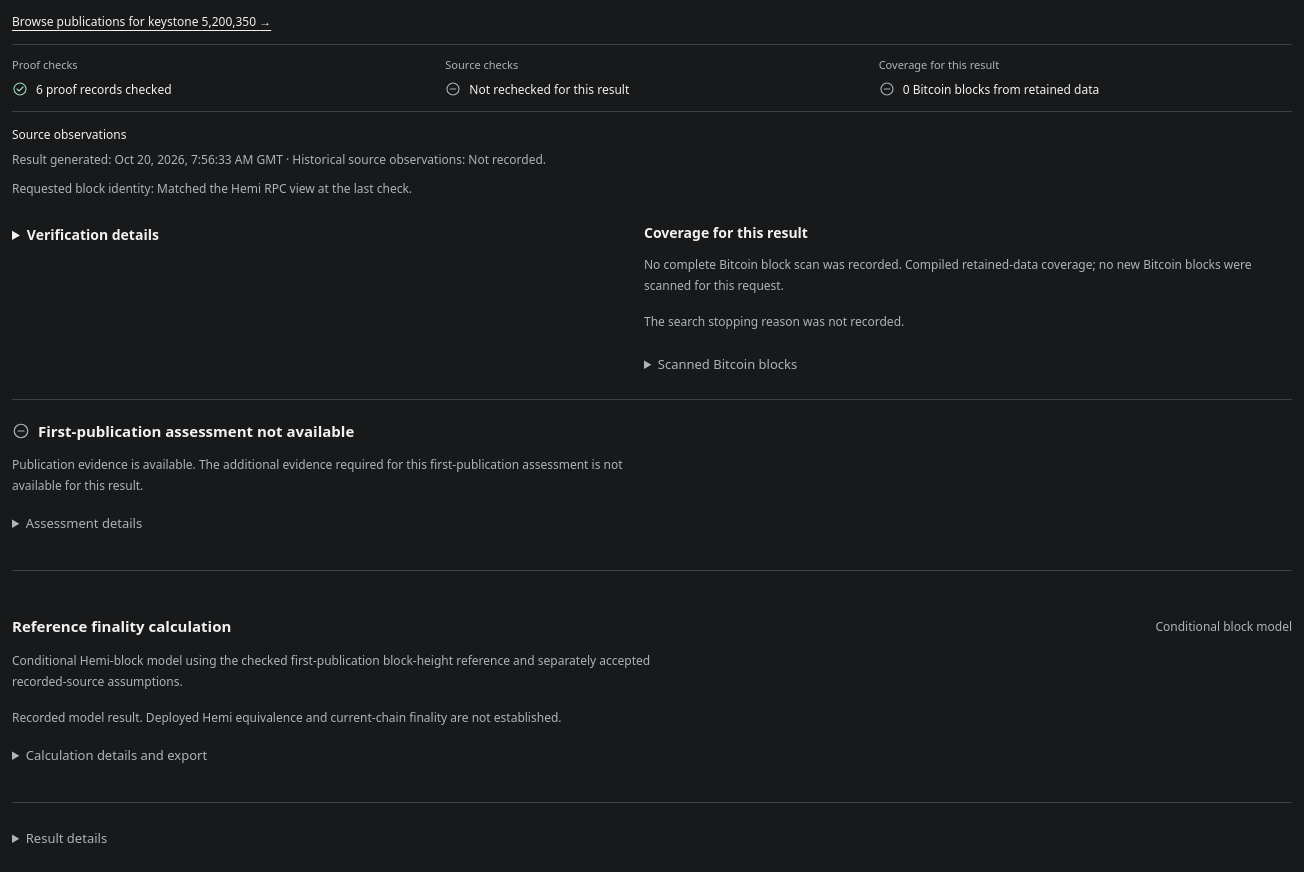
it: Publication outcome, observation context and additional assessments › shows historical model depth with its tip/time while the ordinary source depth remains unestablished
The width and height of the screenshot is (1304, 872).
(page scrolled)
Click the heading "Calculation details and export": (116, 755) [26,746,207,764]
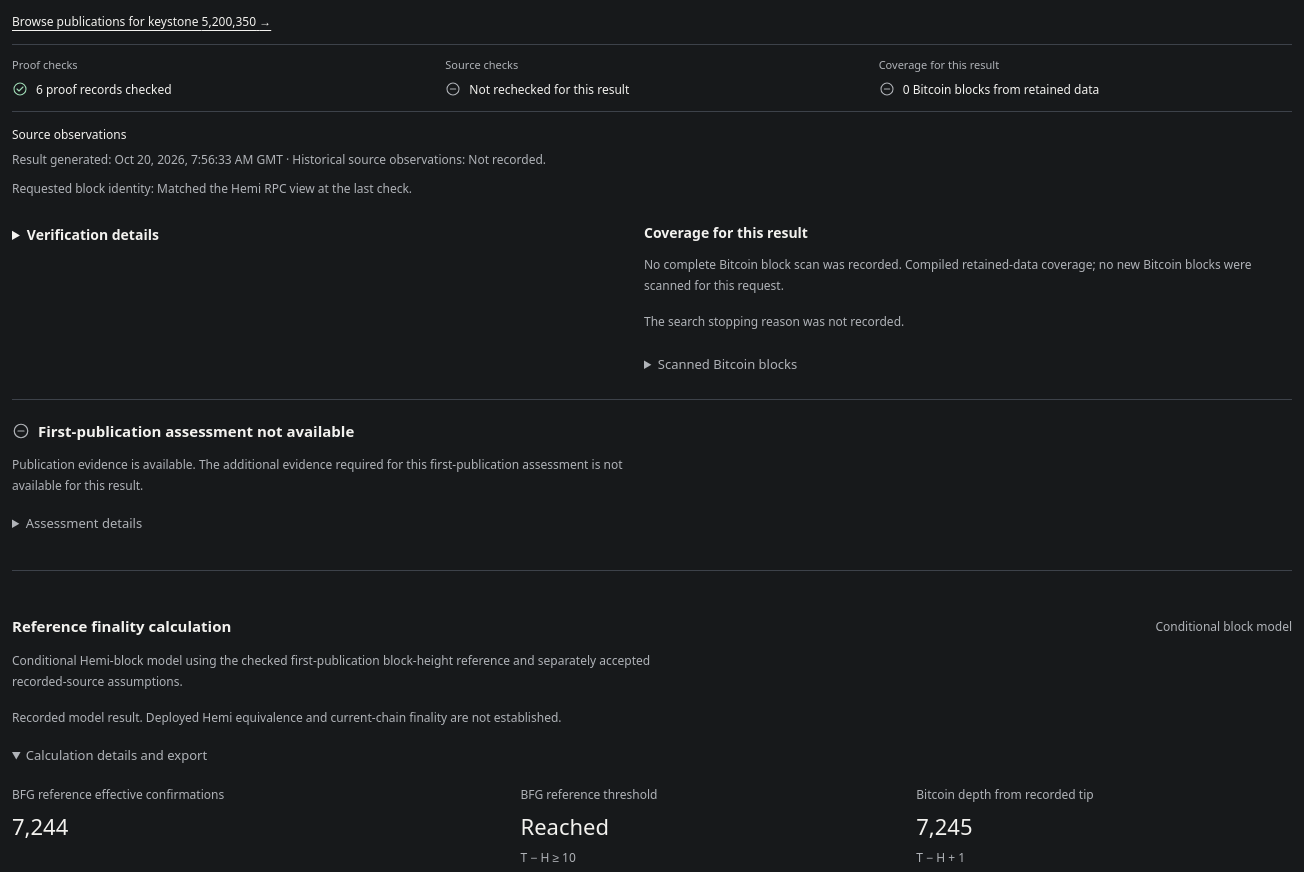
Expected: the text "Bitcoin depth from recorded tip" is shown, [916,786,1094,804]
Expected: the text with id "finality-depth" reads "7,245", [916,812,972,842]
